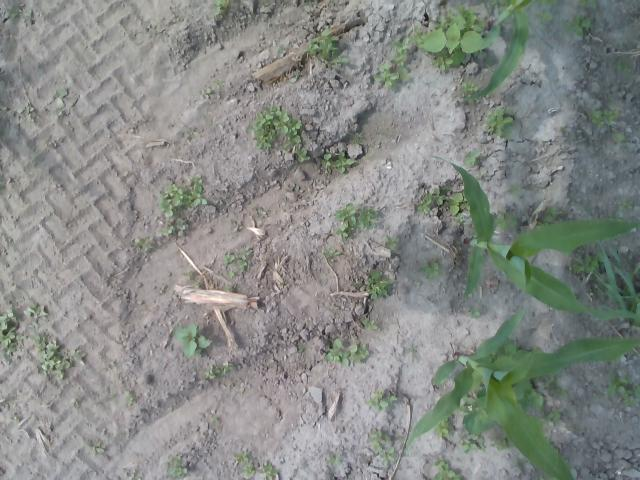Maize: (406, 310, 640, 480), (430, 153, 640, 321), (466, 0, 532, 106)
Weeds: (409, 3, 488, 72), (246, 105, 310, 162), (29, 332, 82, 381), (415, 184, 469, 228), (158, 174, 208, 216), (372, 37, 410, 89), (302, 28, 348, 67), (332, 204, 378, 237), (0, 308, 25, 363), (172, 323, 211, 358), (605, 369, 640, 408), (324, 338, 369, 366), (366, 428, 396, 467), (483, 107, 514, 142), (366, 269, 394, 300), (570, 250, 606, 274), (320, 148, 354, 173), (563, 12, 595, 38), (430, 455, 462, 480), (222, 249, 249, 278), (364, 390, 398, 411), (489, 428, 516, 451), (587, 108, 619, 127), (202, 362, 235, 380), (536, 405, 564, 426), (521, 388, 545, 412), (26, 304, 48, 330), (201, 76, 224, 100), (166, 454, 188, 479), (0, 104, 32, 120), (494, 210, 517, 232), (156, 218, 184, 236), (432, 414, 453, 438), (459, 434, 486, 452), (418, 258, 439, 280), (540, 205, 562, 224), (258, 460, 278, 480), (547, 380, 568, 398), (534, 8, 553, 26), (459, 78, 478, 96), (462, 148, 480, 166), (134, 236, 154, 252), (6, 6, 32, 18), (85, 440, 104, 456), (212, 0, 229, 17), (346, 129, 364, 145), (488, 0, 508, 14), (614, 58, 630, 74), (464, 306, 482, 320), (384, 235, 400, 250), (609, 132, 625, 146), (322, 247, 340, 259), (362, 318, 377, 331), (327, 453, 341, 466), (240, 463, 254, 476), (618, 199, 633, 211), (577, 0, 596, 9), (508, 184, 520, 197), (234, 451, 248, 462), (56, 87, 67, 101), (123, 390, 133, 404), (534, 0, 558, 5), (516, 458, 526, 470), (598, 284, 606, 299), (127, 473, 142, 480), (290, 70, 298, 82), (188, 128, 196, 138), (478, 172, 488, 179), (302, 0, 312, 6), (558, 125, 566, 132), (297, 344, 304, 352), (183, 270, 192, 276), (225, 286, 232, 292), (210, 416, 218, 421), (238, 388, 244, 394), (13, 416, 19, 422), (276, 46, 280, 52)
